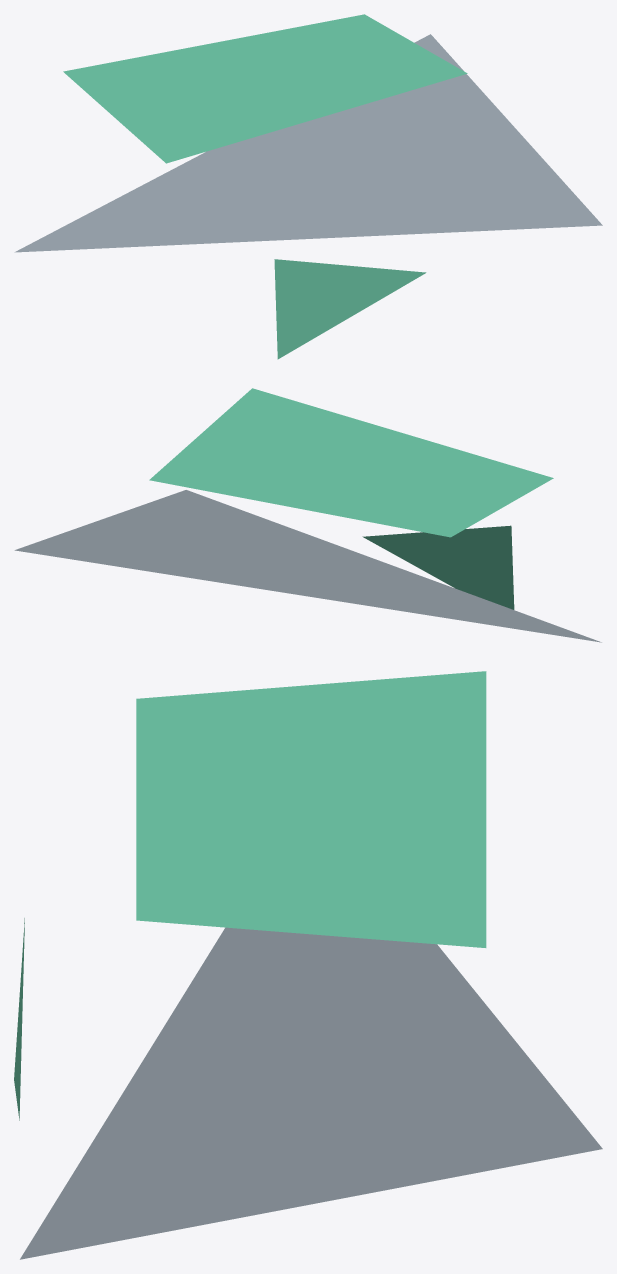
Rendered from CO_YuanCollector_LOD2.glb.
The picture shows the model from 3 angles, top to bottom: view 1: azimuth 30°, elevation 25°; view 2: azimuth 150°, elevation 25°; view 3: azimuth 270°, elevation 25°; orthographic projection. The views are drawn at different scales.
Visible parts, largest first — view 1: EntranceGate; view 2: EntranceGate; view 3: EntranceGate.
Boxes of the visible parts, left/top/right/bottom form: EntranceGate: left=14, top=14, right=602, bottom=359; EntranceGate: left=14, top=388, right=601, bottom=642; EntranceGate: left=14, top=671, right=602, bottom=1259.
Bounding box in the file's own units: 590 × 229 × 353.
